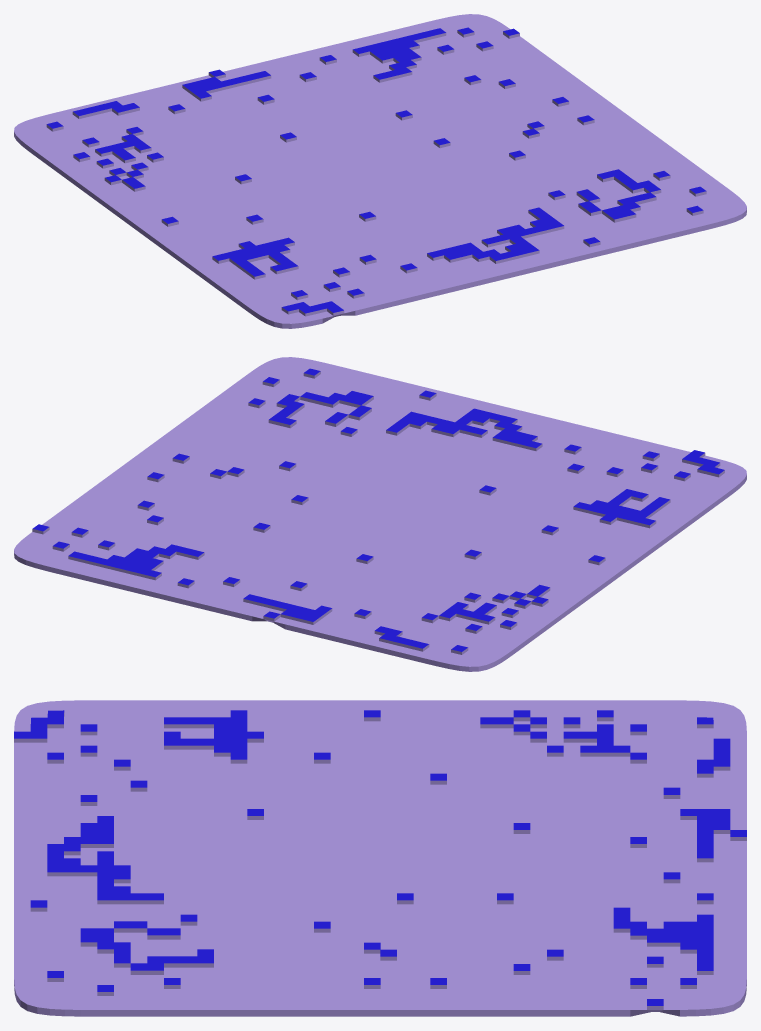
The model's file is ground.fbx.
3 views of the same model, one above another, from view 1: azimuth 30°, elevation 25°; view 2: azimuth 150°, elevation 25°; view 3: azimuth 270°, elevation 25° (orthographic). The views are drawn at different scales.
Parts seen in each view (by area): view 1: Plane.001; view 2: Plane.001; view 3: Plane.001.
Boxes of the visible parts, bbox=[...] form: Plane.001: bbox=[14, 14, 746, 328]; Plane.001: bbox=[14, 357, 746, 671]; Plane.001: bbox=[14, 700, 746, 1016].
Bounding box in the file's own units: 5000 × 82.59 × 5000.
